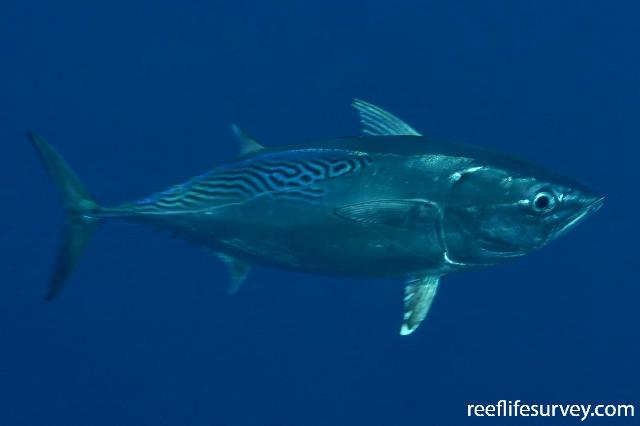Mulut: (562, 170, 620, 242)
Sirip Anal: (207, 242, 257, 300)
Sirip Dada: (328, 193, 444, 239)
Sirip Ekor: (16, 121, 112, 305)
Sirip Perut: (393, 267, 442, 343)
Sirip Punggung: (217, 89, 426, 169)
